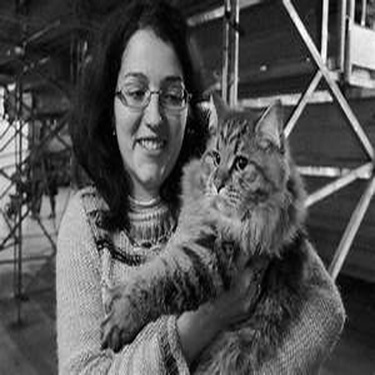cat: (105, 85, 309, 365)
